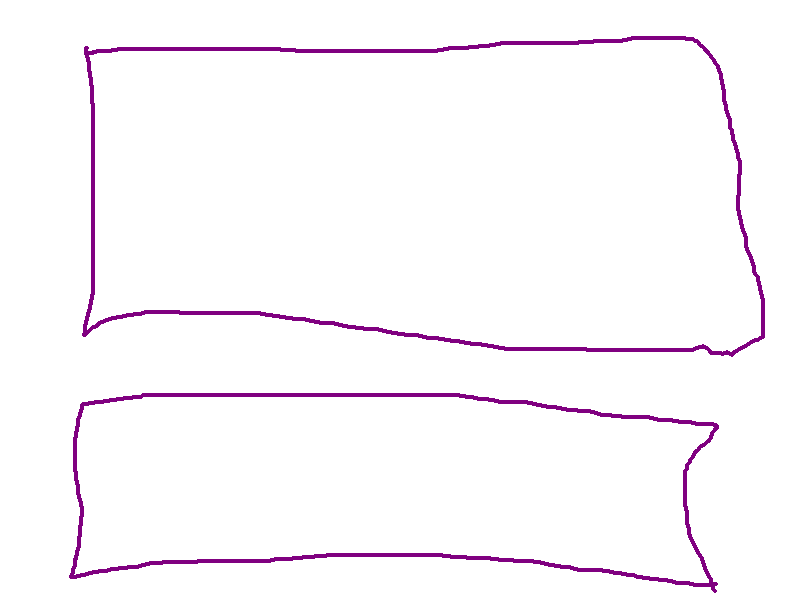rect: (76, 31, 772, 362), (67, 383, 728, 593)
